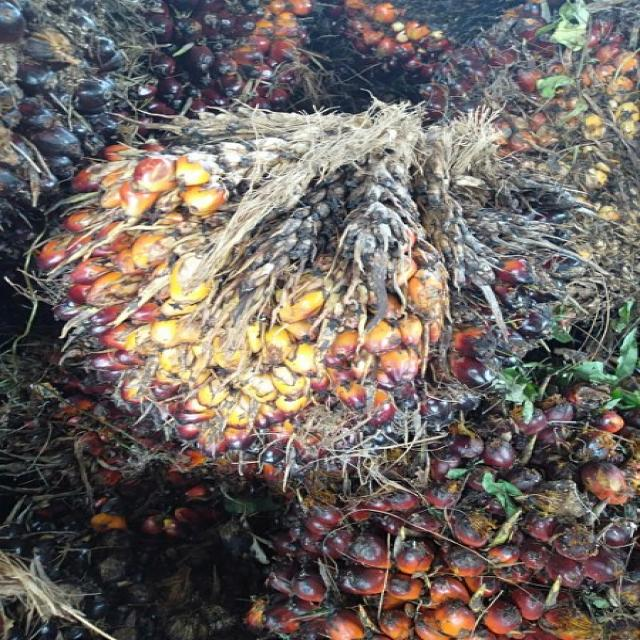fraksi 1: (23, 119, 542, 457)
